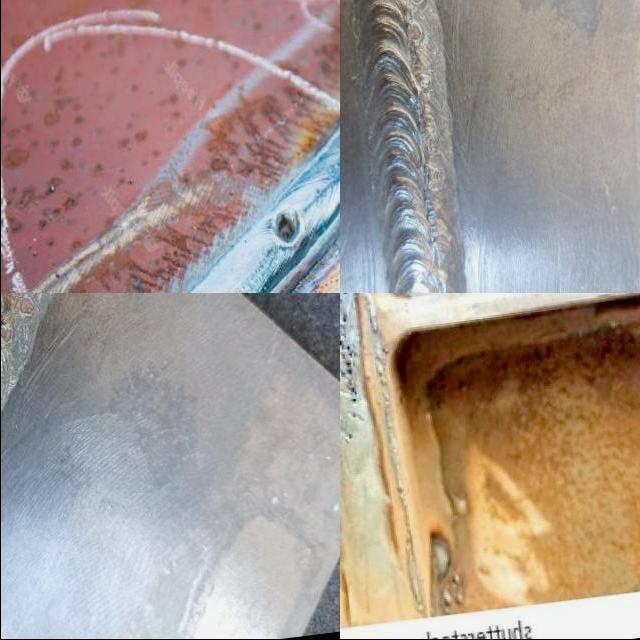defect: (339, 334, 362, 447), (267, 208, 301, 249), (419, 127, 439, 154), (14, 294, 35, 319), (421, 164, 441, 188), (0, 316, 15, 348), (403, 19, 420, 47), (408, 0, 426, 7)
